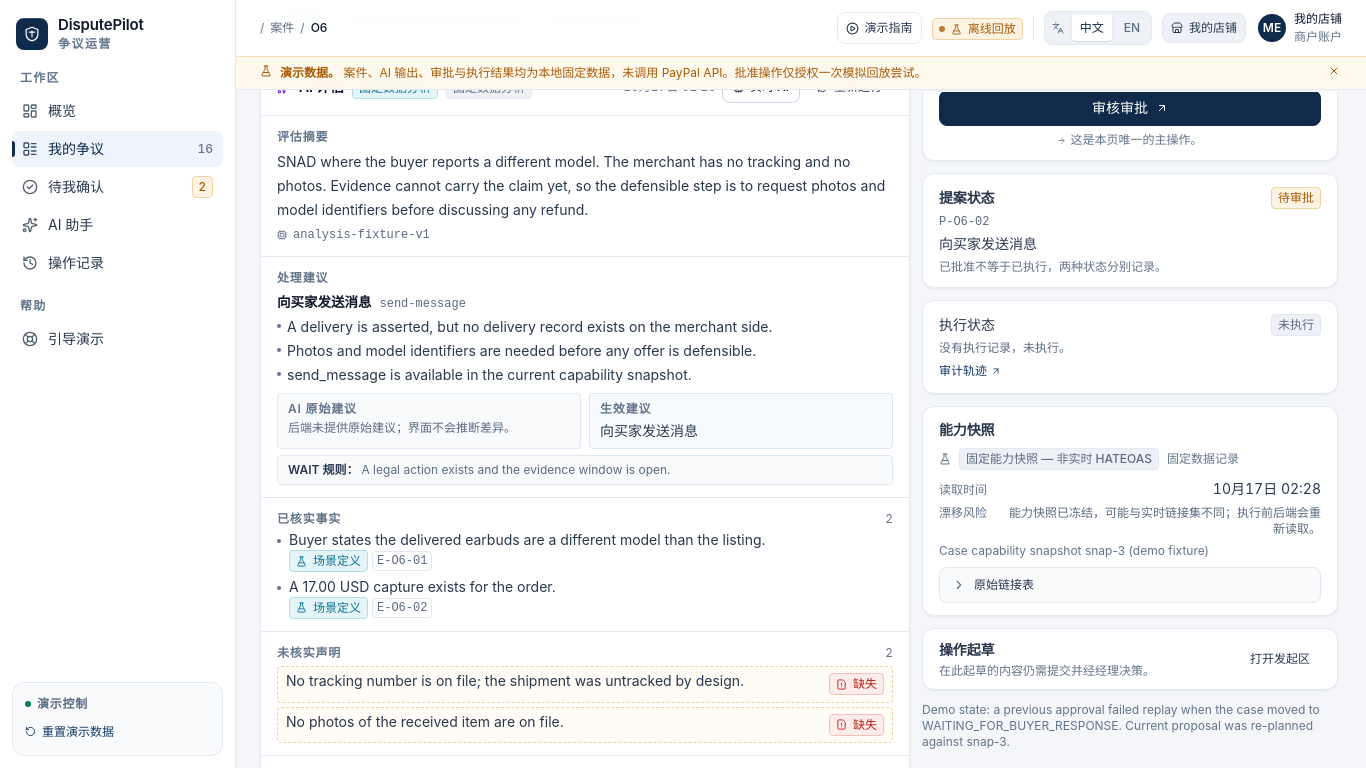
Scenario: payment case wording › keeps dispute wording on an ordinary dispute case
The width and height of the screenshot is (1366, 768).
(page scrolled)
What coordinates should you click on to do the following:
click the button "打开发起区"
I would click on:
 (1280, 659)
Its box is [1239, 643, 1321, 675].
(page scrolled)
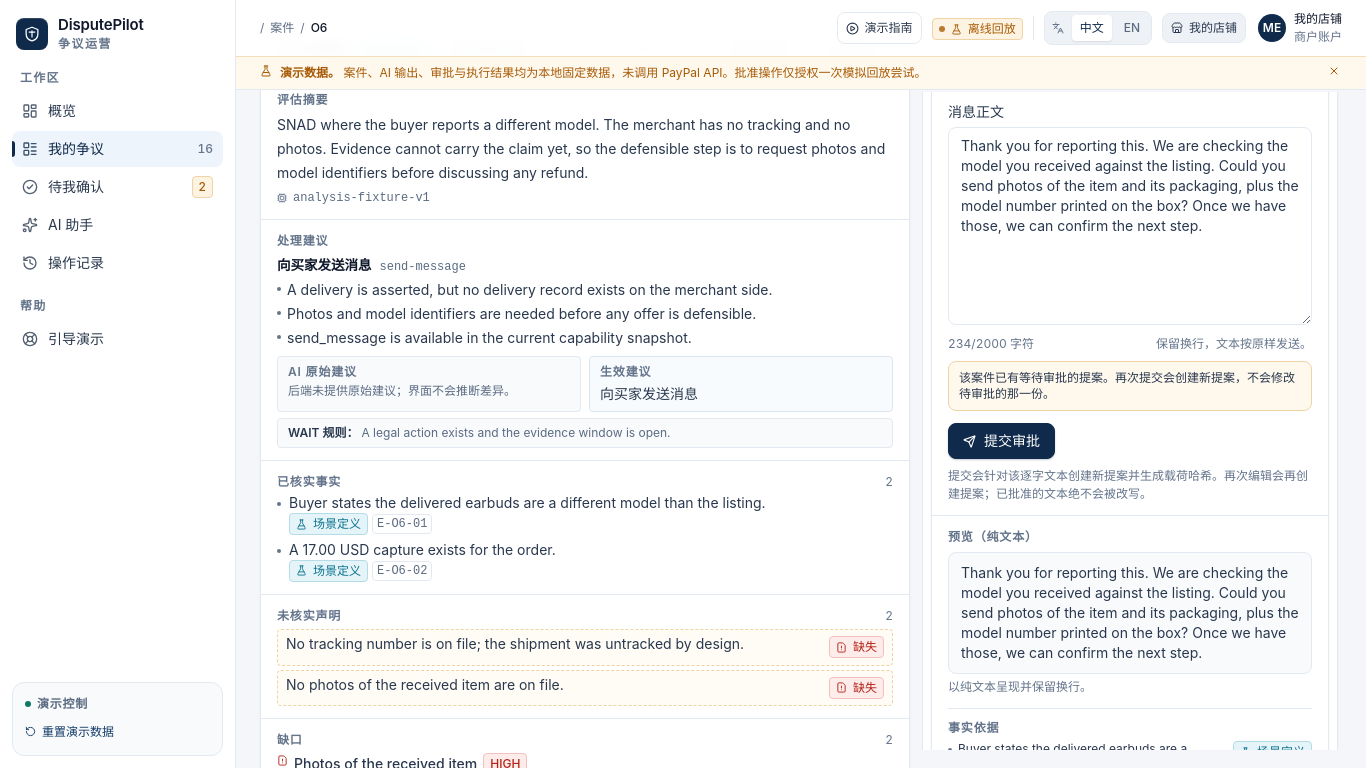
Result: the element with test id "send-message-card" is shown at [931, 92, 1329, 750]
